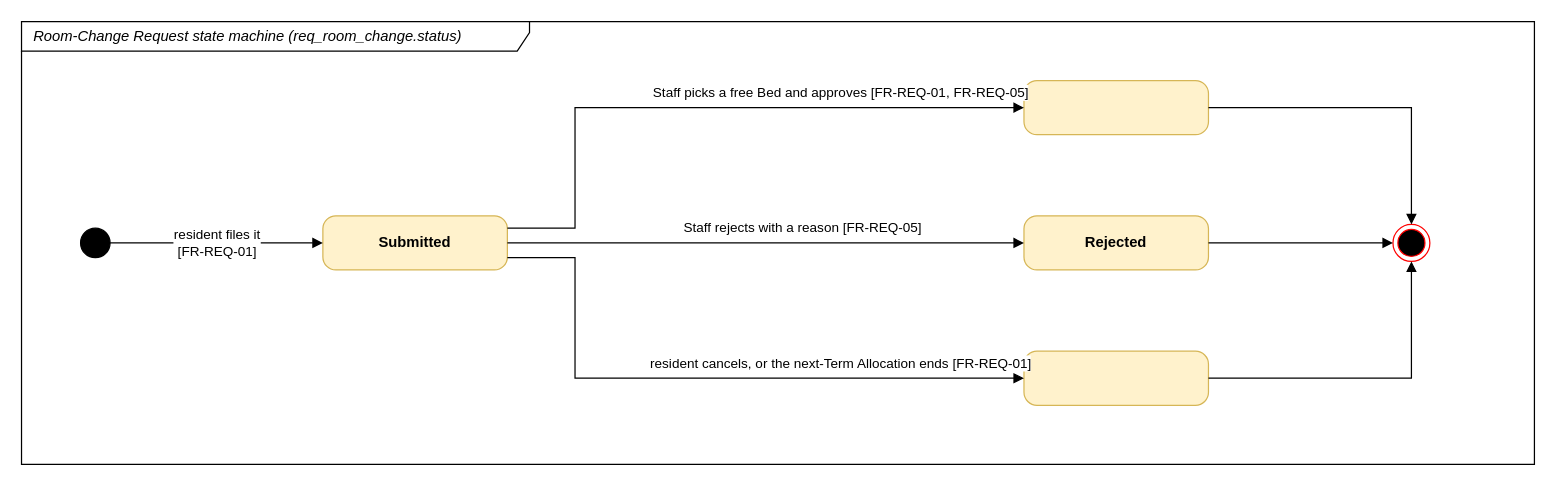
The diagram is 1556 pixels wide and 486 high, and some of its shapes have lost their labels. Here are the shapes that lost their labels. From the top down, the centre of each, then its label:
At point (1115, 107): "Approved".
At point (1115, 377): "Cancelled".
